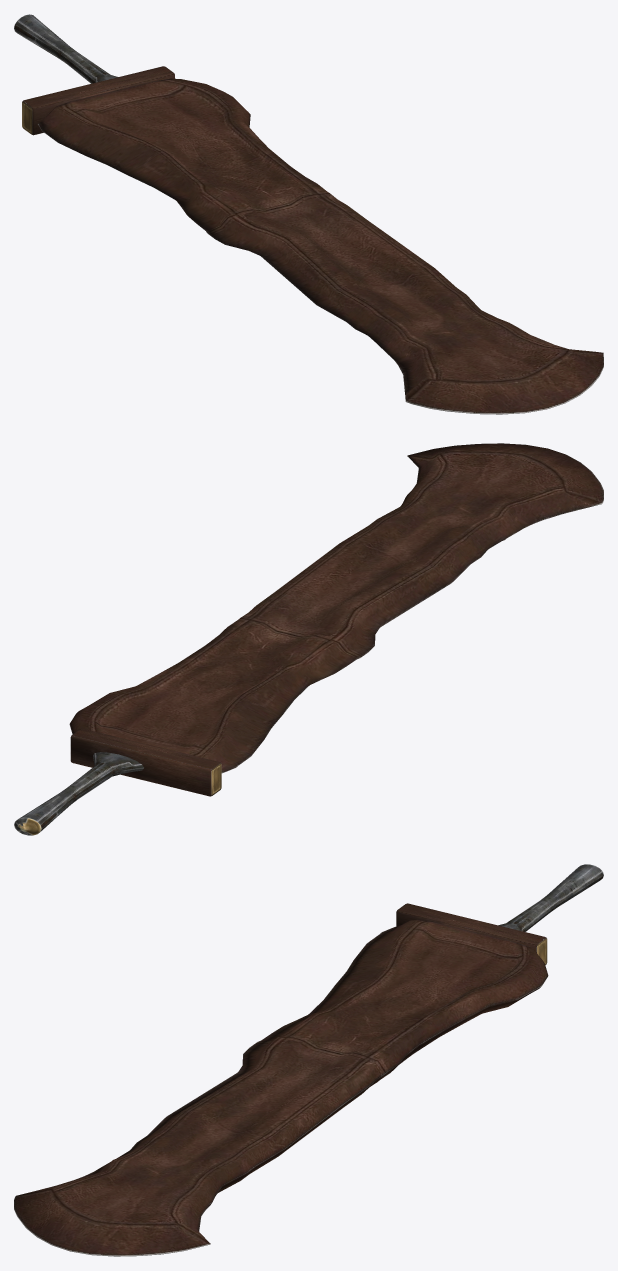
Rendered from greatSword.fbx.
3 renders of one model, top to bottom at view 1: azimuth 30°, elevation 25°; view 2: azimuth 150°, elevation 25°; view 3: azimuth 330°, elevation 25°, orthographic.
Visible parts, largest first — view 1: greatSword; view 2: greatSword; view 3: greatSword.
Part boxes in pixels (x1,y1,x2,y2): greatSword: [14, 14, 603, 414]; greatSword: [14, 443, 603, 835]; greatSword: [14, 864, 603, 1256].
Size of the model in its own units: 42.54 by 5.71 by 197.
